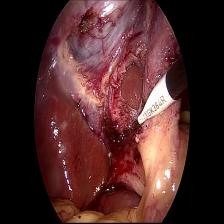Hook: (137, 72, 179, 132)
